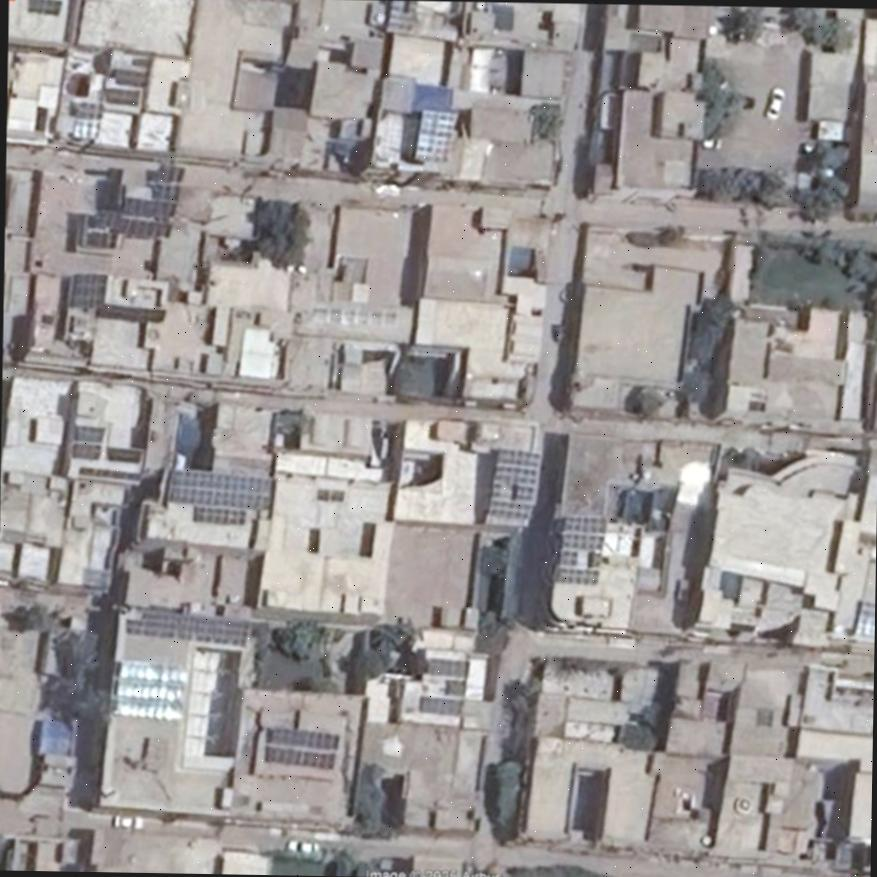Solarpanel: (122, 609, 252, 644), (167, 468, 272, 511), (113, 661, 185, 718), (487, 446, 539, 516), (552, 517, 605, 582), (265, 726, 340, 768), (413, 109, 454, 158), (99, 211, 172, 237), (150, 164, 185, 202), (124, 196, 179, 218), (71, 424, 103, 456), (427, 653, 467, 676), (195, 505, 244, 523), (419, 697, 461, 713), (115, 67, 149, 86), (104, 87, 139, 104)
